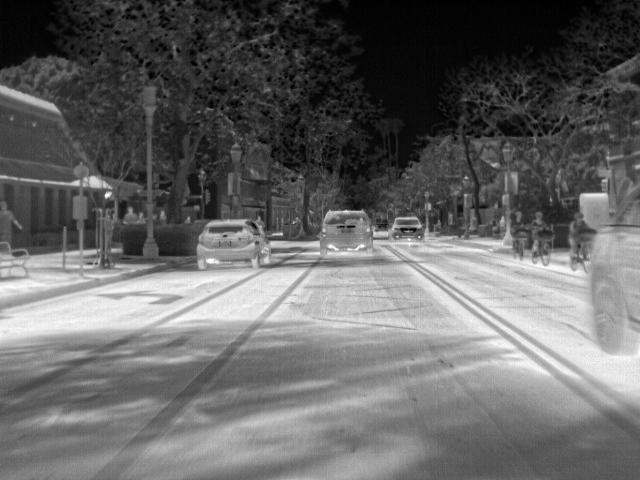car: (580, 174, 640, 354), (196, 218, 270, 269), (317, 205, 380, 255), (390, 215, 427, 243)
person: (2, 203, 22, 253), (568, 213, 584, 255), (530, 210, 547, 248), (121, 204, 136, 227), (511, 209, 527, 229)
